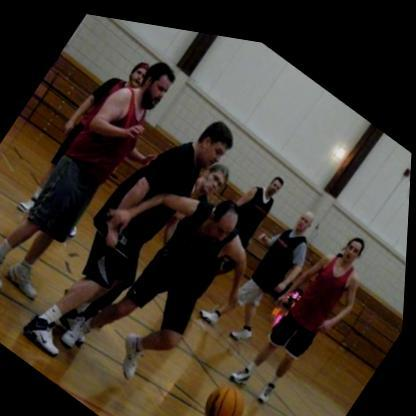basketball: (200, 365, 257, 416)
